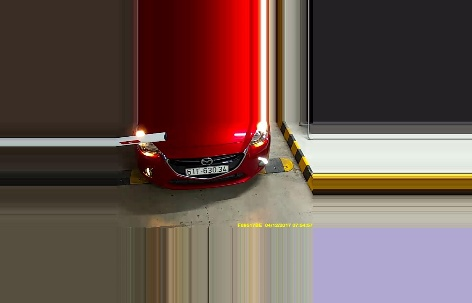plate: (184, 163, 228, 175)
